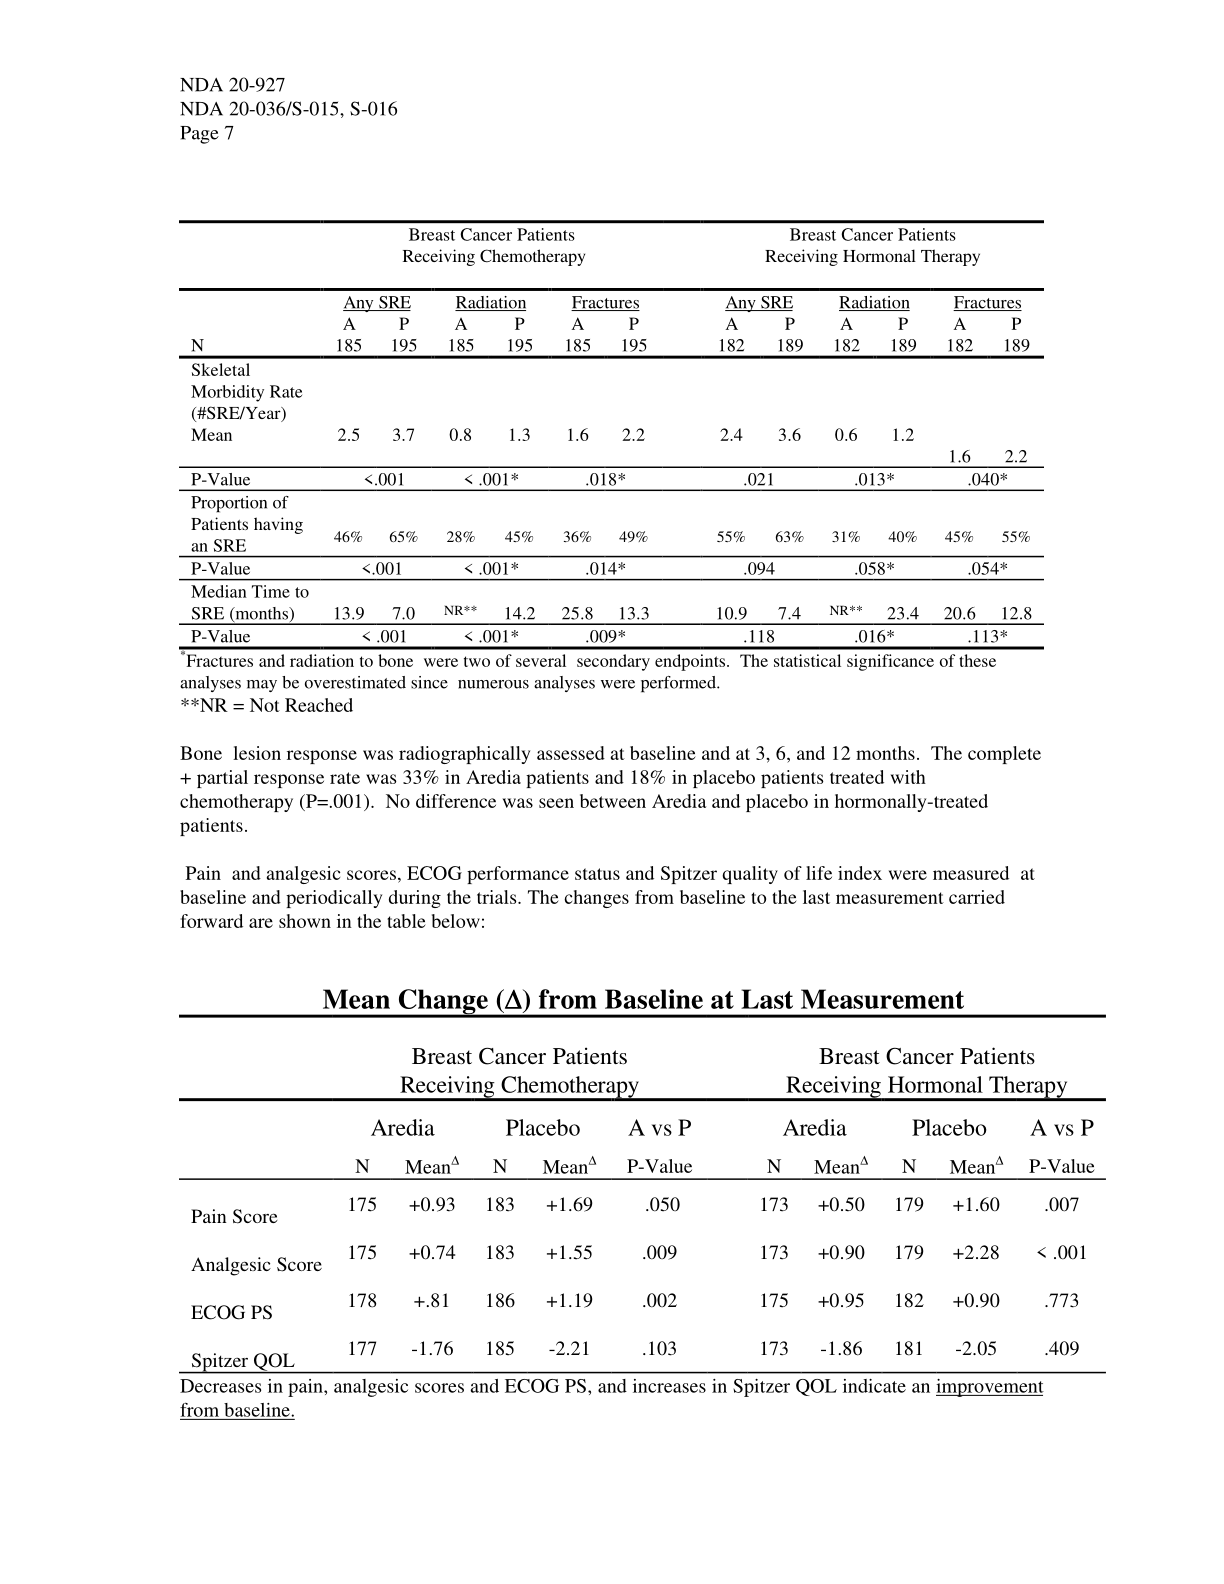partial_lined_merged_cells: (177, 219, 1045, 651), (177, 1013, 1106, 1377)
